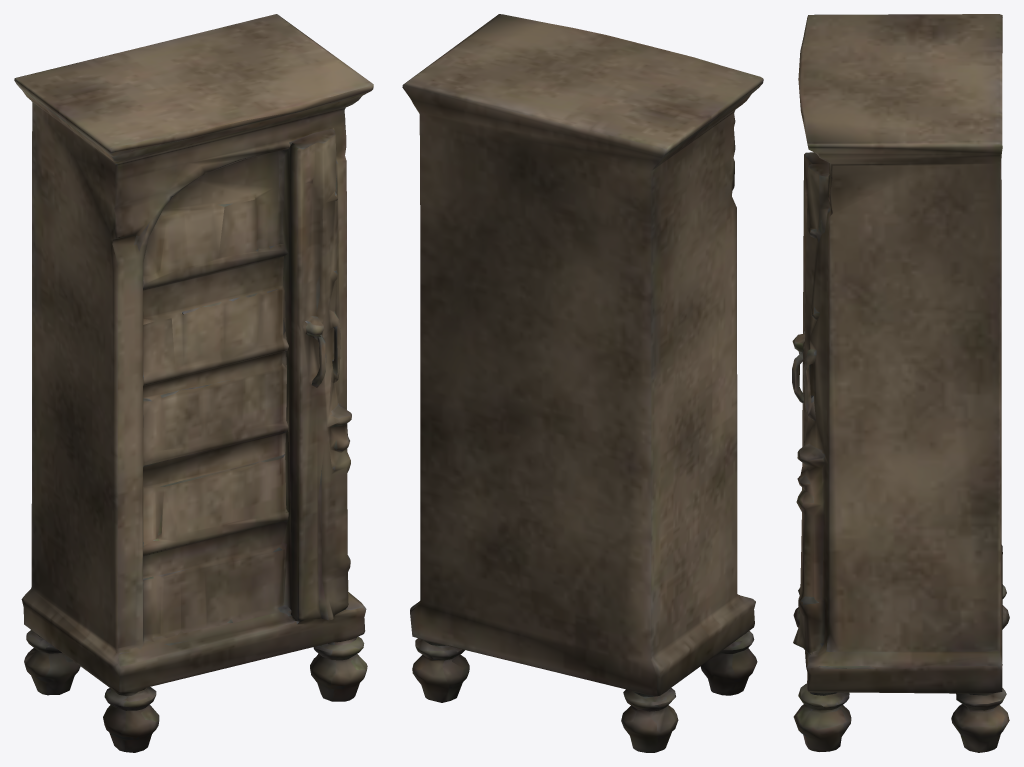
File: rustic-wood-bookcase-v001.glb
The picture shows the model from 3 angles, left to right: view 1: azimuth 30°, elevation 25°; view 2: azimuth 150°, elevation 25°; view 3: azimuth 270°, elevation 25°; orthographic projection.
Parts seen in each view (by area): view 1: rustic-wood-bookcase; view 2: rustic-wood-bookcase; view 3: rustic-wood-bookcase.
Boxes of the visible parts, x1,y1,x2,y2 form: rustic-wood-bookcase: (14,14,373,752); rustic-wood-bookcase: (402,14,763,752); rustic-wood-bookcase: (792,14,1009,752).
Bounding box in the file's own units: 1.02 × 2.28 × 0.7275.
1 material, 1 textured.
